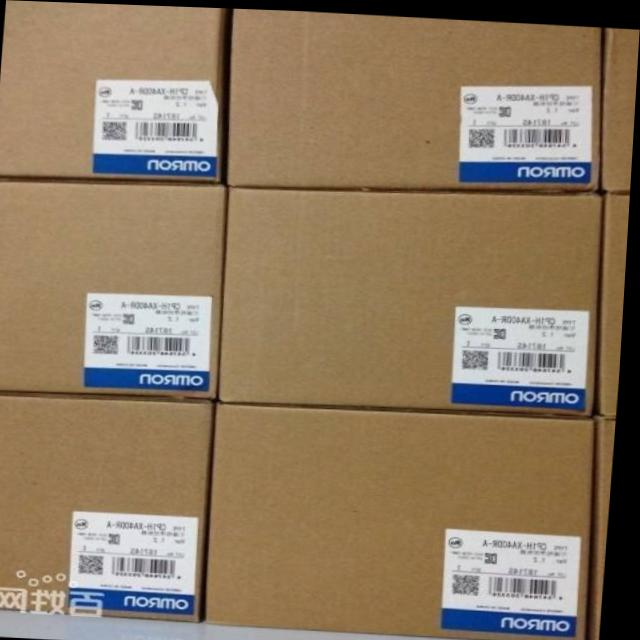box: (208, 401, 600, 638), (221, 187, 606, 413), (225, 7, 605, 188), (0, 394, 224, 622), (0, 180, 230, 401), (0, 0, 225, 182), (598, 189, 632, 411), (593, 411, 620, 640), (605, 24, 640, 189)
